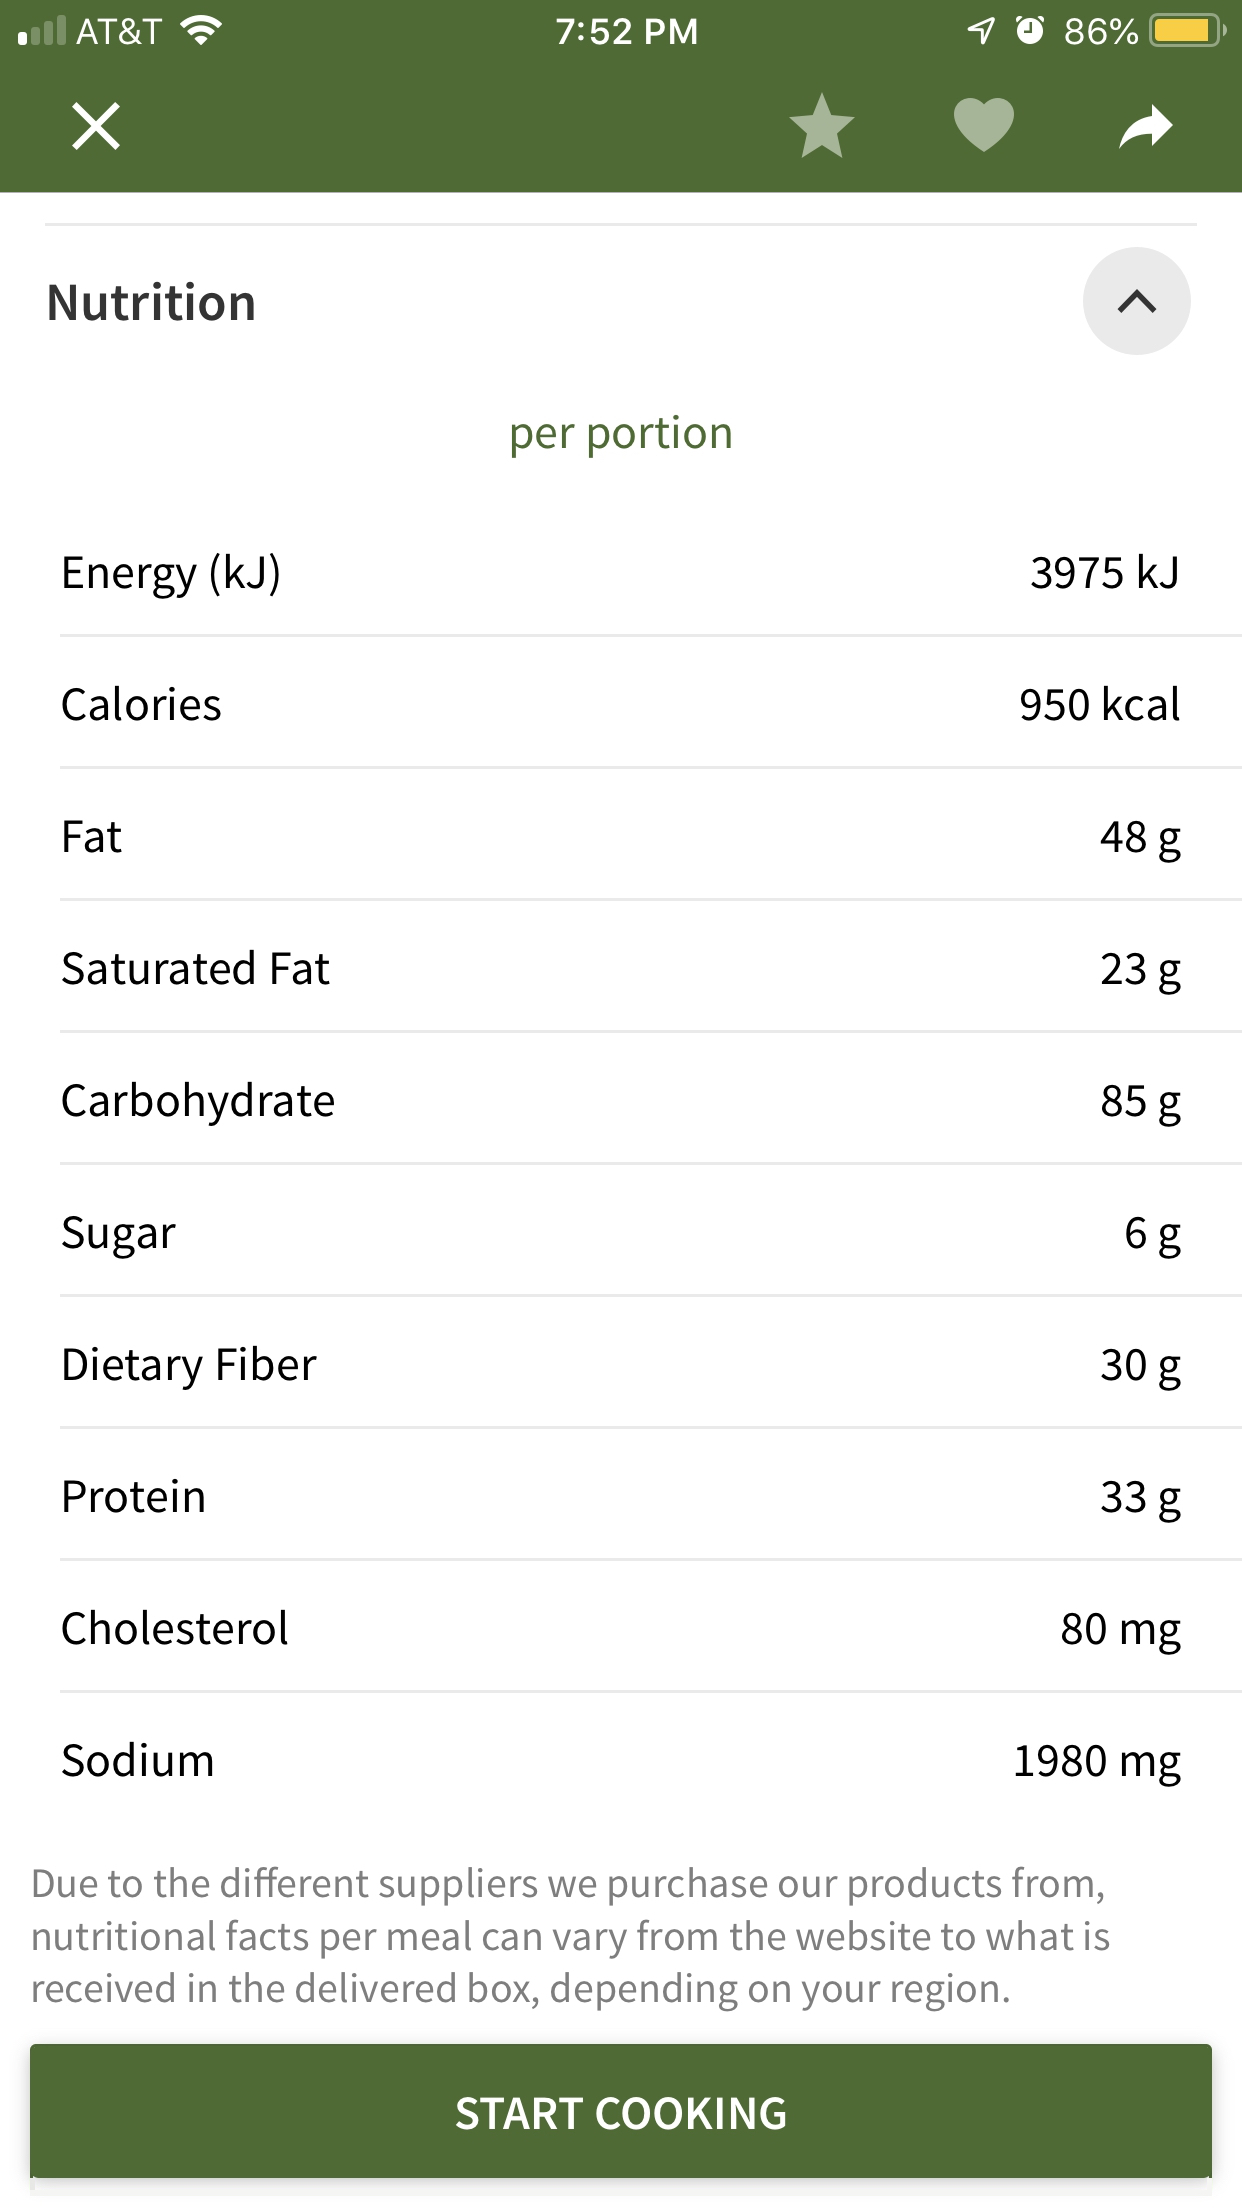Icon: (1083, 249, 1192, 356), (789, 93, 855, 161), (952, 99, 1015, 155), (1119, 105, 1174, 152), (71, 102, 121, 152)
Text: (32, 1865, 1110, 2012), (62, 1081, 337, 1128), (64, 1344, 318, 1391), (64, 554, 281, 601), (62, 949, 331, 987), (511, 414, 732, 459), (62, 1607, 290, 1645), (49, 282, 255, 323), (1015, 1744, 1181, 1788), (64, 685, 223, 723), (1021, 685, 1180, 722), (62, 1741, 214, 1779), (1031, 554, 1178, 590), (1062, 1612, 1181, 1656), (62, 1215, 177, 1260), (64, 1479, 206, 1515), (1099, 820, 1181, 864), (1101, 1480, 1181, 1524), (1101, 1348, 1181, 1392), (1101, 1084, 1181, 1128), (1101, 952, 1181, 996), (1127, 1216, 1181, 1260), (64, 820, 124, 855)
TextButton: (30, 2043, 1213, 2178)
UpperTaskBar: (2, 2, 1242, 49)
